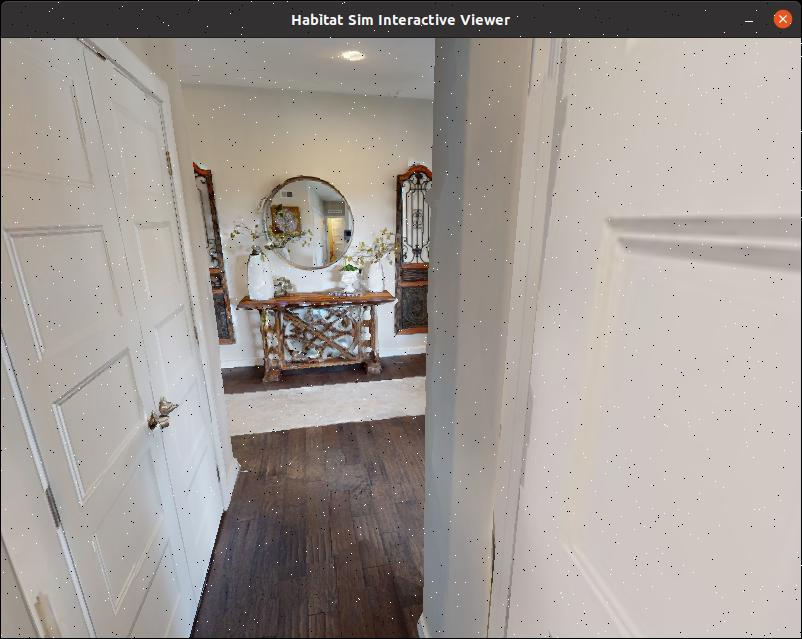door: (0, 42, 240, 638)
table: (231, 273, 410, 386)
